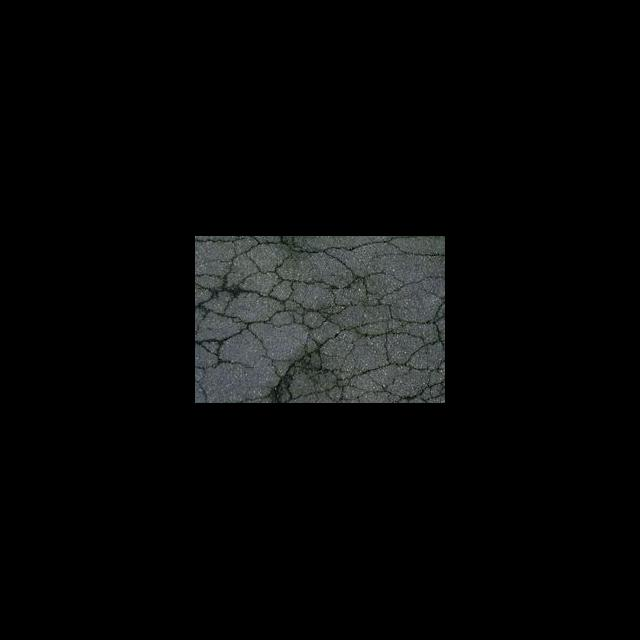retak_kulit_buaya: (195, 236, 445, 404)
